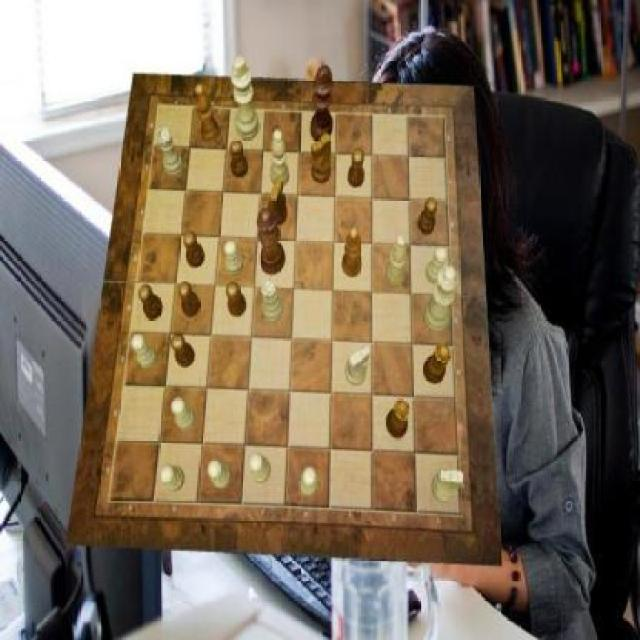bishop: (195, 84, 220, 144), (343, 226, 363, 279)
black-bishop: (310, 65, 334, 142)
black-king: (311, 134, 331, 184), (268, 177, 288, 226)
black-knight: (172, 332, 197, 367), (139, 284, 163, 320), (184, 231, 206, 268), (178, 282, 200, 318), (418, 197, 438, 235), (226, 282, 246, 318), (230, 140, 248, 178), (348, 148, 364, 188)
black-pawn: (257, 209, 286, 277)
black-queen: (423, 343, 451, 385), (386, 400, 410, 440)
black-rook: (385, 235, 407, 288), (271, 129, 290, 187)
white-bishop: (231, 56, 258, 140)
white-king: (432, 469, 465, 503), (344, 345, 370, 386)
white-knight: (132, 334, 158, 370), (426, 246, 449, 284), (172, 397, 197, 431), (208, 460, 232, 491), (249, 454, 272, 484), (160, 465, 185, 492), (224, 240, 243, 275), (298, 466, 318, 497)
white-pawn: (424, 266, 460, 332)
white-queen: (157, 128, 184, 177), (262, 278, 284, 322)
